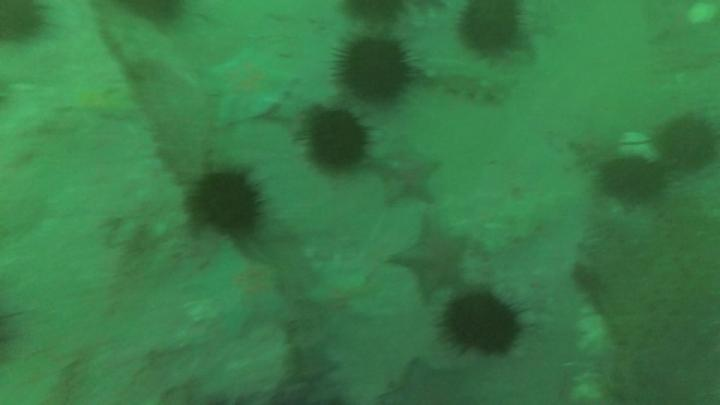echinus: (184, 176, 260, 237), (446, 294, 521, 355), (340, 39, 410, 101), (655, 115, 720, 170), (309, 113, 368, 171), (462, 2, 522, 57), (601, 158, 668, 205), (2, 1, 51, 43)
holothurian: (427, 53, 514, 106)
scallop: (689, 3, 720, 25)
starfish: (187, 247, 290, 336), (204, 52, 301, 127), (389, 208, 467, 296), (371, 138, 444, 205), (303, 266, 374, 332)
